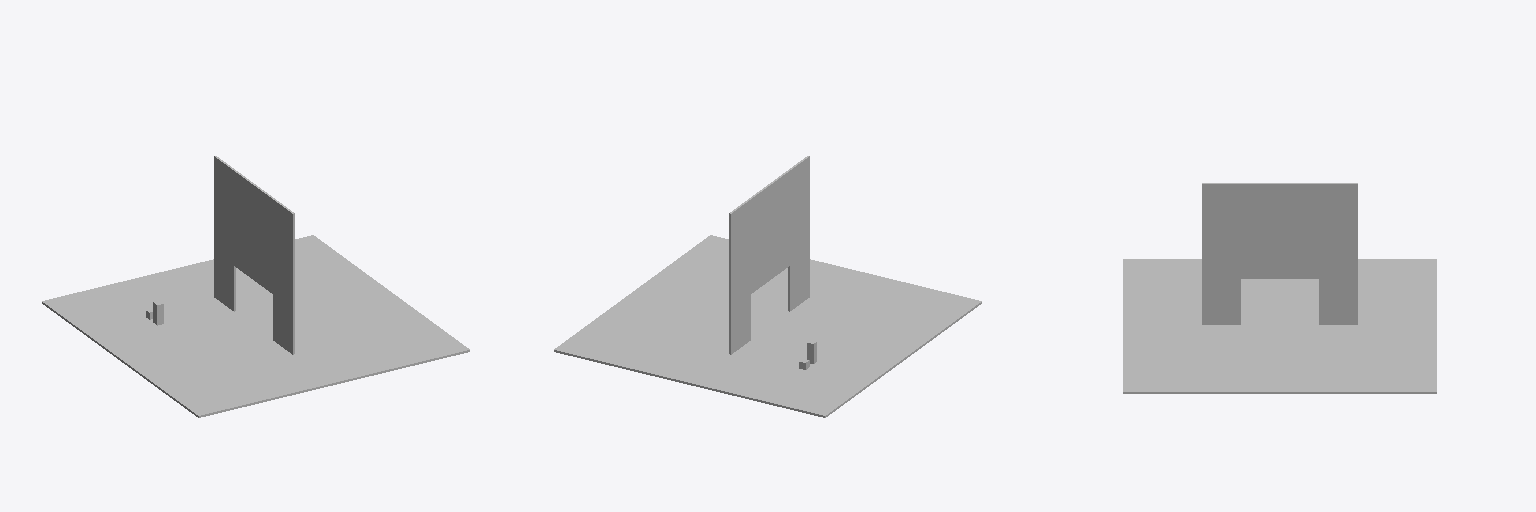
Rendered from move_scene.obj.
The picture shows the model from 3 angles: view 1: azimuth 30°, elevation 25°; view 2: azimuth 150°, elevation 25°; view 3: azimuth 270°, elevation 25°; orthographic projection.
Parts seen in each view (by area): view 1: Cube.001_Cube.004, Cube.002_Cube.003; view 2: Cube.001_Cube.004, Cube.002_Cube.003; view 3: Cube.001_Cube.004, Cube.002_Cube.003.
Boxes of the visible parts, <box> form: Cube.001_Cube.004: <box>42,235,469,417</box>; Cube.002_Cube.003: <box>214,156,294,354</box>; Cube.001_Cube.004: <box>554,235,981,417</box>; Cube.002_Cube.003: <box>729,156,809,354</box>; Cube.001_Cube.004: <box>1123,259,1436,393</box>; Cube.002_Cube.003: <box>1202,183,1357,324</box>.
Bounding box in the file's own units: 80 × 40.3 × 80.